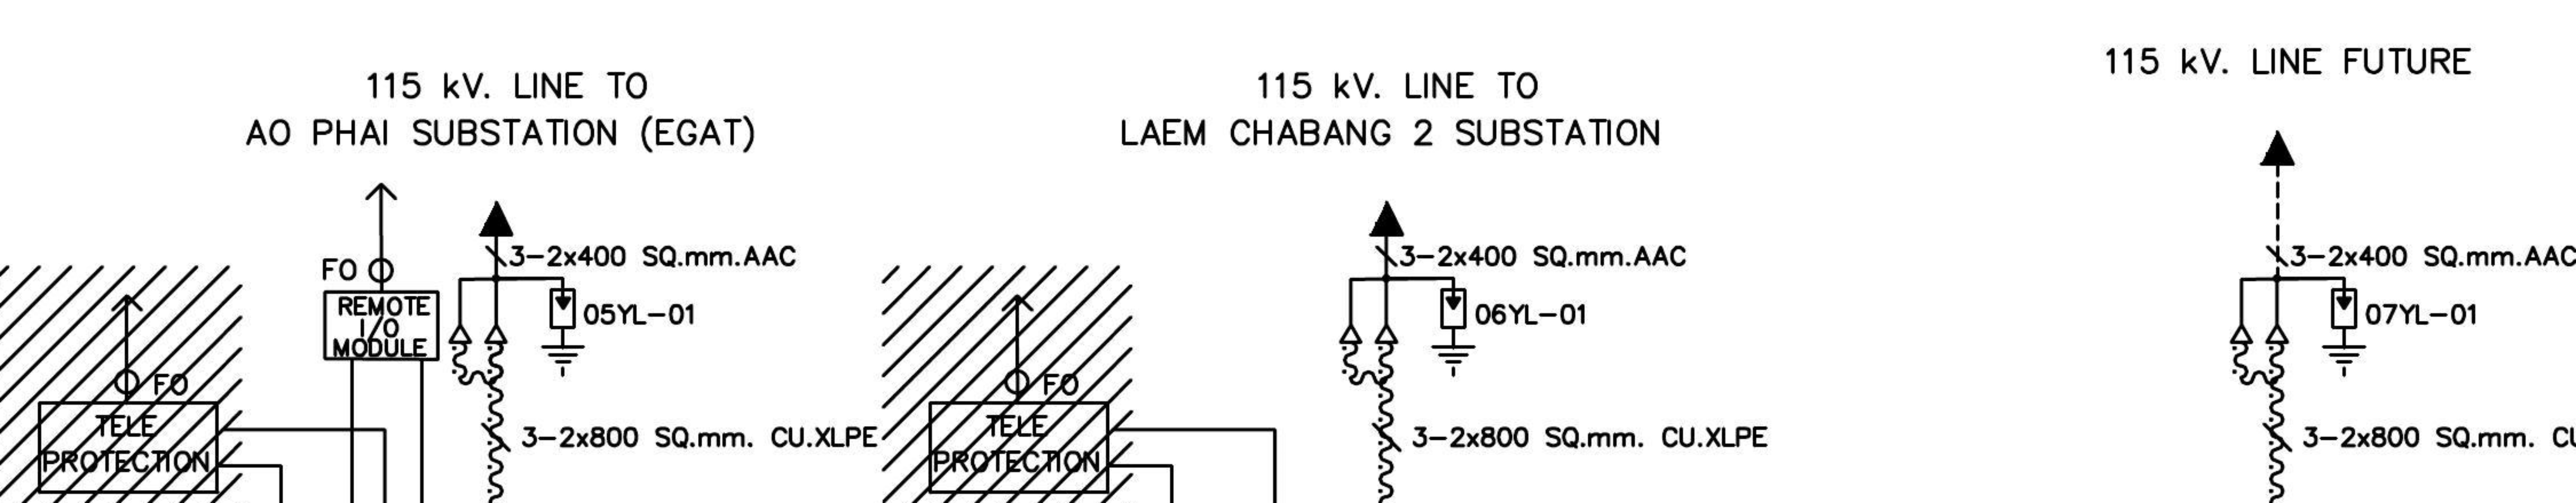115_la: (2321, 286, 2367, 378), (1431, 286, 1477, 378), (540, 286, 586, 378)
remote_io_module: (320, 288, 442, 363)
tele_protection: (34, 399, 222, 498), (925, 398, 1112, 496)
terminator_double: (447, 276, 509, 345), (1337, 276, 1400, 345), (2228, 276, 2290, 345)
